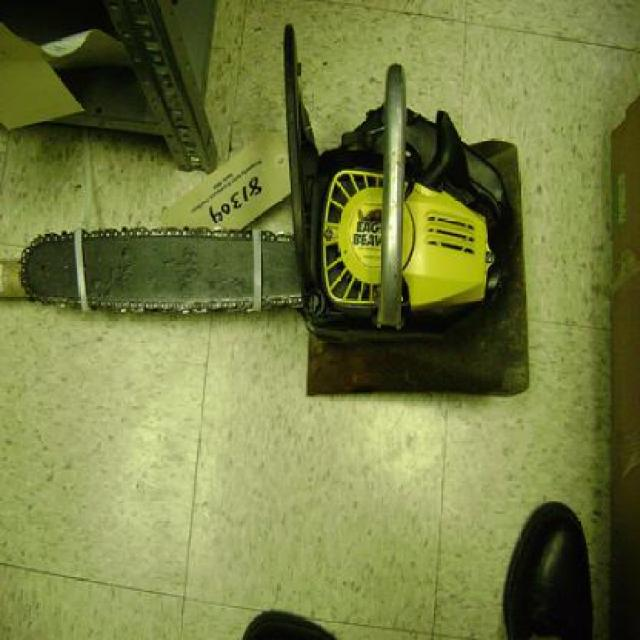Chainsaw: (18, 20, 532, 400)
